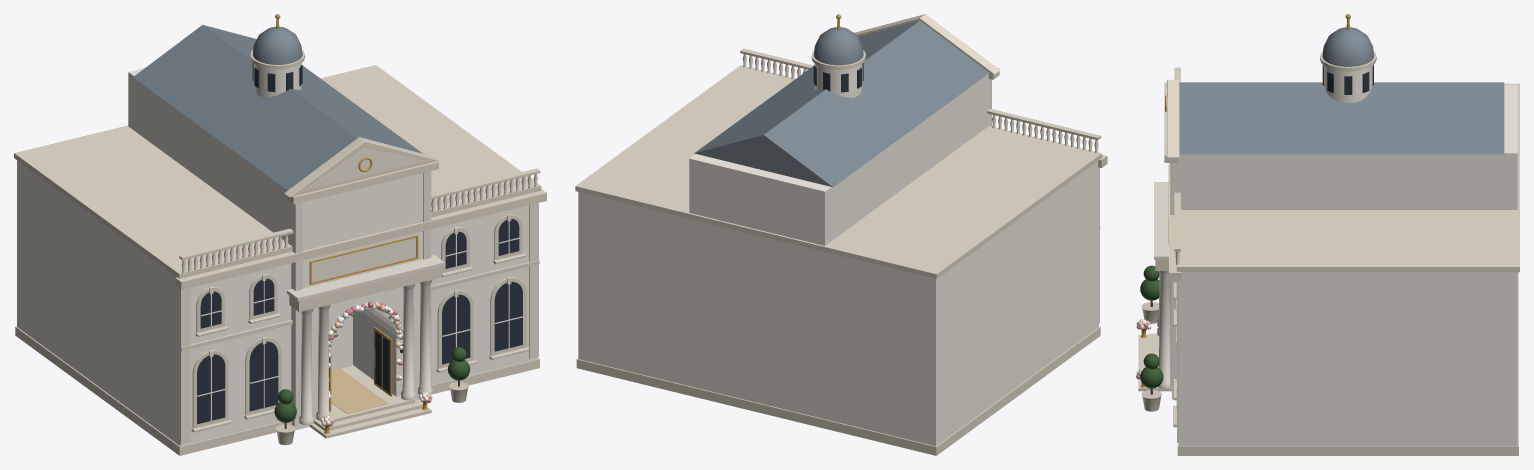
The model's file is exterior.glb.
3 renders of one model, left to right at view 1: azimuth 30°, elevation 25°; view 2: azimuth 150°, elevation 25°; view 3: azimuth 270°, elevation 25°, orthographic. The views are drawn at different scales.
Parts seen in each view (by area): view 1: stucco4, stone225, stucco6, slate209, stucco5, stone7, stone224, stoneLight193, stone206, stoneLight192, glass230, glass276 (+33 smaller); view 2: stucco4, stucco6, stone225, slate209, stucco5, stone7, slate220, stone206, stucco210, stone226; view 3: stucco5, slate209, stone225, stucco6, stone7, slate220, stoneLight3, stoneLight192, stucco210, stone206, stone224, stone188 (+2 smaller).
Boxes of the visible parts, x1,y1,x2,y2 form: stucco4: (17, 160, 291, 446); stone225: (14, 65, 541, 278); stucco6: (128, 68, 422, 430); slate209: (133, 25, 422, 190); stucco5: (431, 205, 538, 384); stone7: (15, 326, 539, 455); stone224: (175, 189, 546, 289); stoneLight193: (311, 237, 416, 282); stone206: (284, 137, 439, 197); stoneLight192: (287, 254, 444, 301); glass230: (249, 341, 278, 411); glass276: (494, 281, 522, 351); stucco4: (825, 161, 1098, 446); stucco6: (689, 74, 991, 419); stone225: (575, 65, 1101, 279); slate209: (694, 20, 988, 187); stucco5: (578, 192, 689, 385); stone7: (576, 326, 1100, 455); slate220: (813, 27, 863, 65); stone206: (854, 14, 1000, 74); stucco210: (814, 64, 862, 97); stone226: (987, 108, 1101, 140); stucco5: (1179, 272, 1517, 446); slate209: (1179, 82, 1504, 154); stone225: (1176, 83, 1519, 272); stucco6: (1172, 84, 1517, 398); stone7: (1177, 272, 1518, 455); slate220: (1322, 27, 1374, 66); stoneLight3: (1158, 271, 1171, 388); stoneLight192: (1154, 182, 1168, 259); stucco210: (1323, 65, 1372, 102); stone206: (1167, 79, 1179, 157); stone224: (1169, 163, 1181, 281); stone188: (1138, 335, 1171, 391).
Bounding box in the file's own units: 19.4 × 17.12 × 17.
